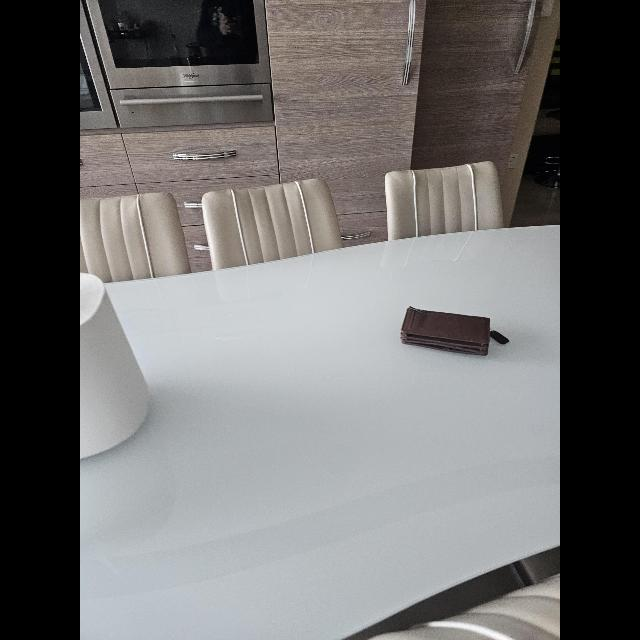Wallet: (400, 307, 496, 357)
